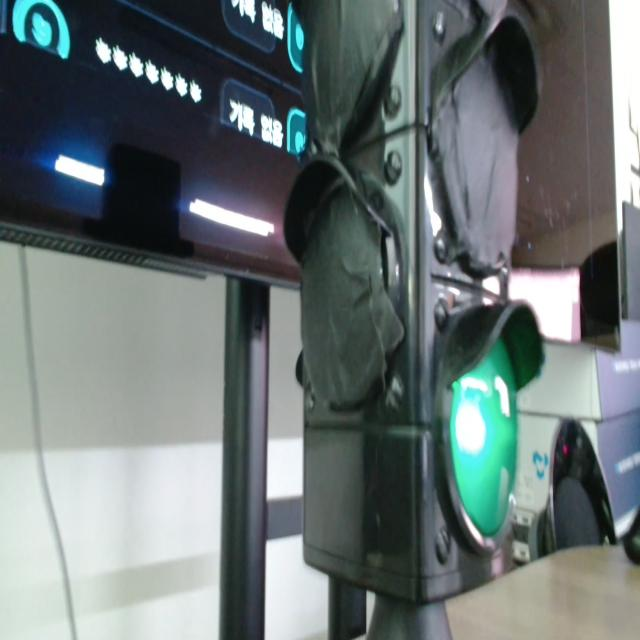green_light: (450, 340, 517, 537)
